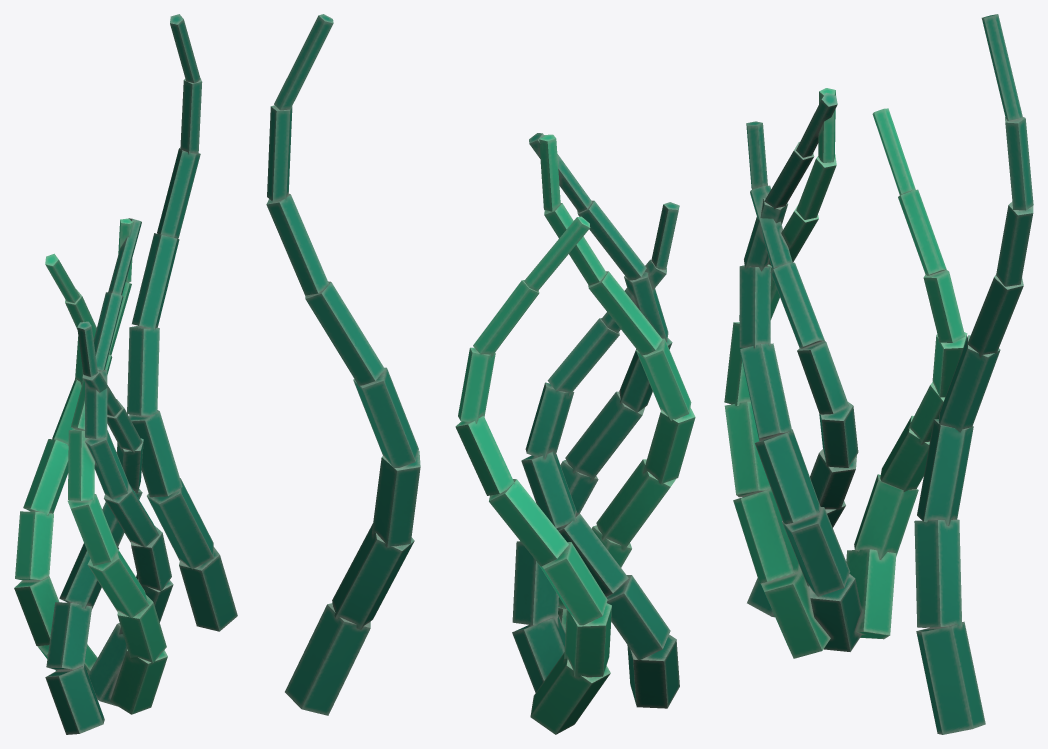
The model's file is mu_seaweed.glb.
3 renders of one model, left to right at view 1: azimuth 30°, elevation 25°; view 2: azimuth 150°, elevation 25°; view 3: azimuth 270°, elevation 25°, orthographic. The views are drawn at different scales.
Visible parts, largest first — view 1: mu_seaweed; view 2: mu_seaweed; view 3: mu_seaweed.
Part boxes in pixels (box(x1,y1,x2,y2)): mu_seaweed: box(14, 14, 237, 734); mu_seaweed: box(266, 14, 695, 734); mu_seaweed: box(724, 14, 1033, 734).
Size of the model in its own units: 1.57 by 3.6 by 1.42.
Materials: 2 (2 with a texture image).
